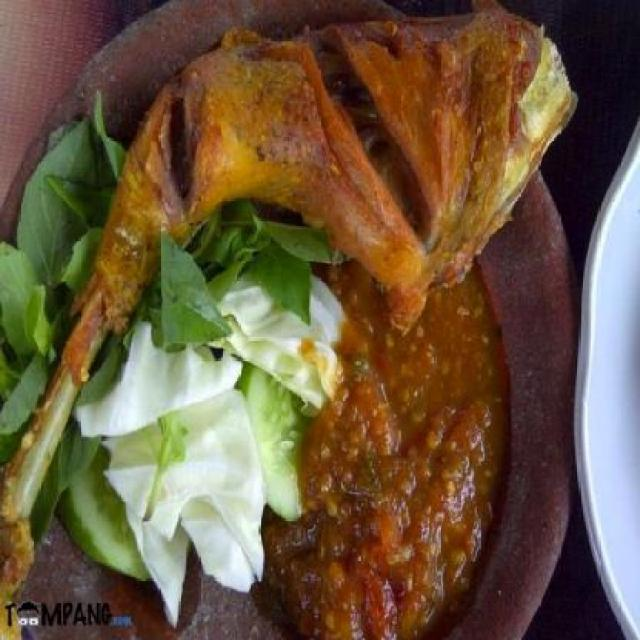Frango: (52, 22, 605, 361)
